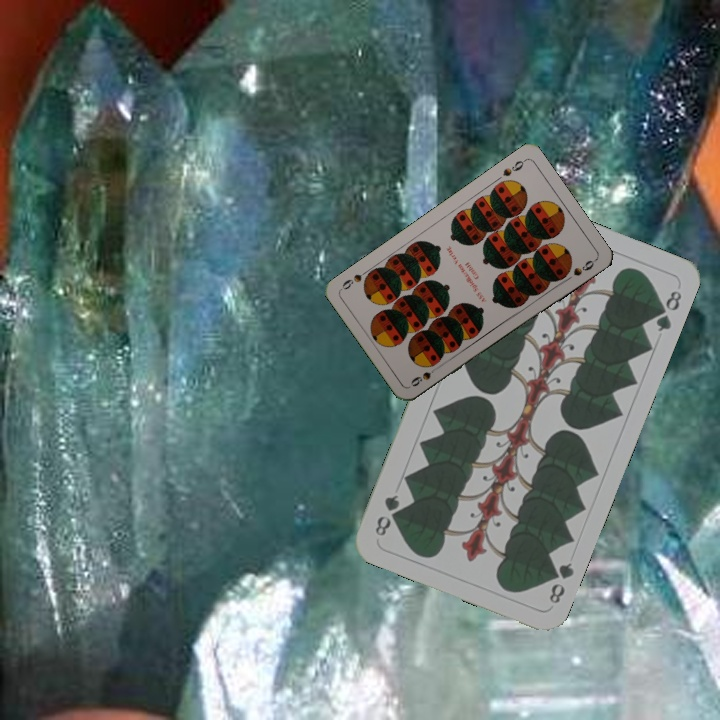G8: (543, 558, 577, 606)
S9: (407, 361, 442, 389), (499, 155, 528, 179)
